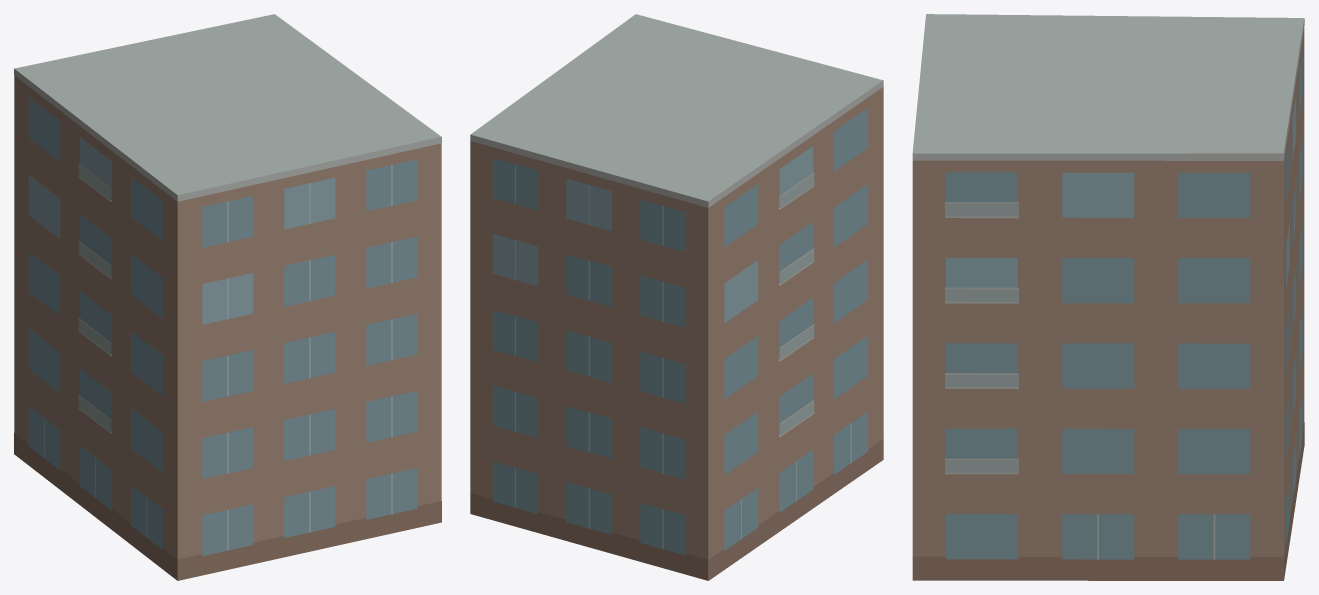
File: survey-upis-32740170.glb
The picture shows the model from 3 angles, left to right: view 1: azimuth 30°, elevation 25°; view 2: azimuth 150°, elevation 25°; view 3: azimuth 270°, elevation 25°; orthographic projection. The views are drawn at different scales.
Visible parts, largest first — view 1: survey-upis-32740170.tmp; view 2: survey-upis-32740170.tmp; view 3: survey-upis-32740170.tmp.
Part boxes in pixels (x1,y1,x2,y2): survey-upis-32740170.tmp: [14, 14, 441, 580]; survey-upis-32740170.tmp: [470, 14, 883, 580]; survey-upis-32740170.tmp: [912, 14, 1304, 580].
Bounding box in the file's own units: 10.27 × 14.6 × 12.15.
